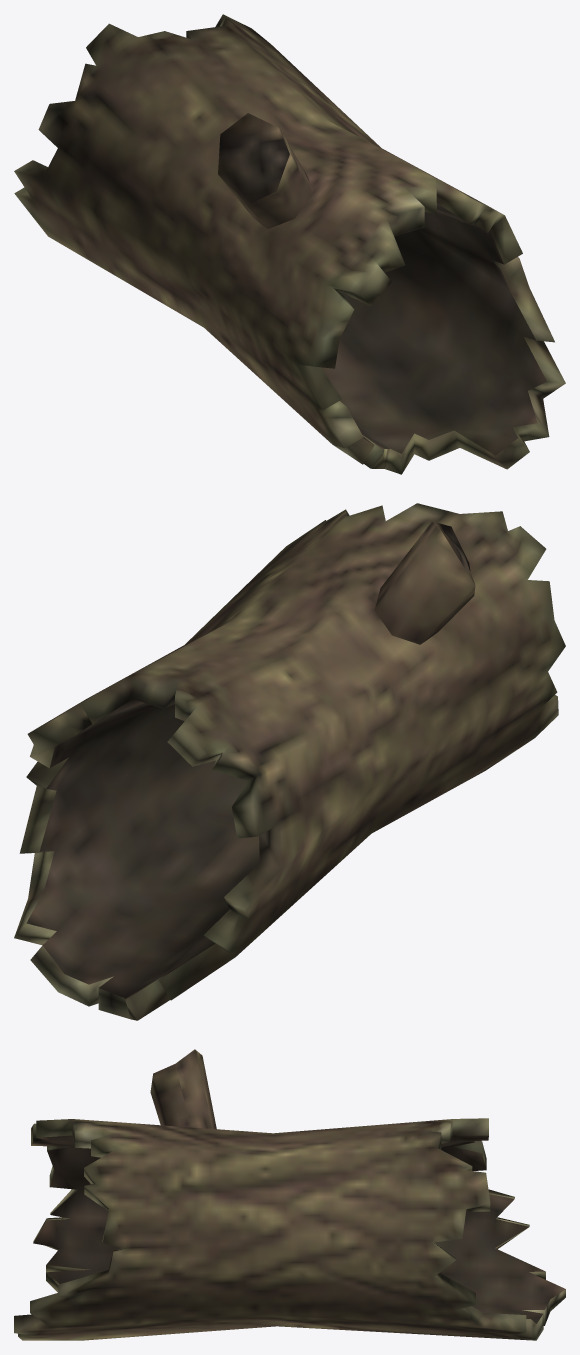
Rendered from Scene_Tree_02.FBX.
The picture shows the model from 3 angles, top to bottom: view 1: azimuth 30°, elevation 25°; view 2: azimuth 150°, elevation 25°; view 3: azimuth 270°, elevation 25°; orthographic projection. The views are drawn at different scales.
Visible parts, largest first — view 1: Scene_Tree_02; view 2: Scene_Tree_02; view 3: Scene_Tree_02.
Part boxes in pixels (box(x1,y1,x2,y2)): Scene_Tree_02: box(14, 14, 565, 474); Scene_Tree_02: box(14, 503, 565, 1020); Scene_Tree_02: box(14, 1049, 565, 1340).
Bounding box in the file's own units: 3.34 × 3.92 × 8.11.
